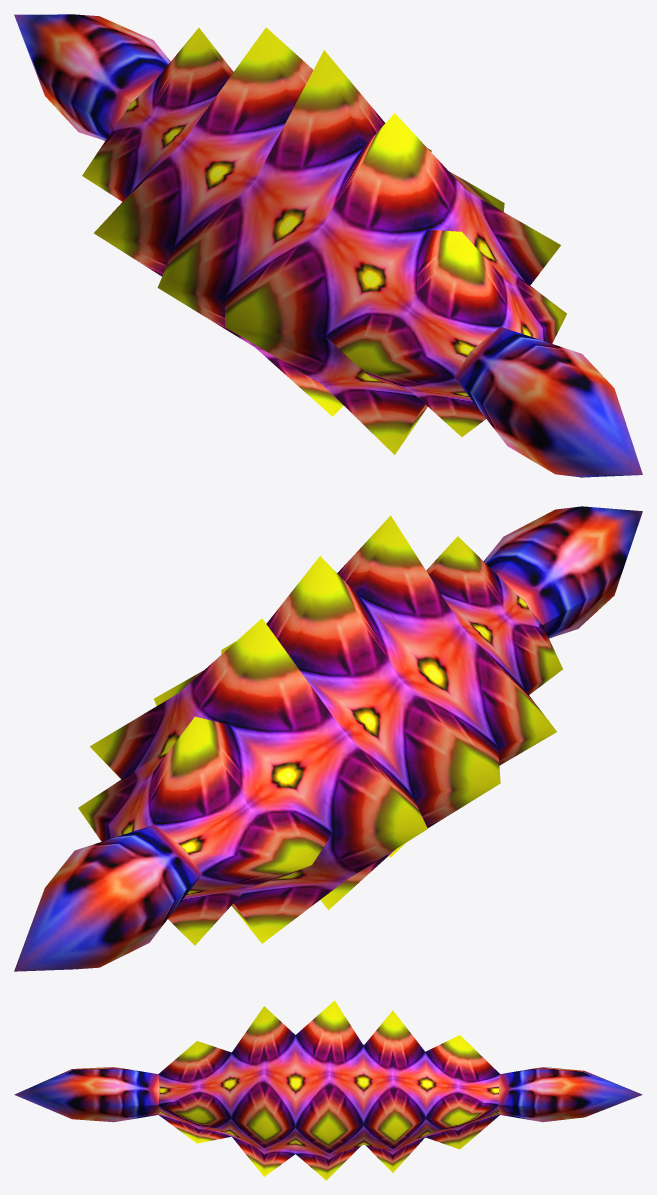
Rendered from ship-17.fbx.
3 views of the same model, one above another, from view 1: azimuth 30°, elevation 25°; view 2: azimuth 150°, elevation 25°; view 3: azimuth 270°, elevation 25° (orthographic). The views are drawn at different scales.
Visible parts, largest first — view 1: ship-17; view 2: ship-17; view 3: ship-17.
Boxes of the visible parts, x1=… form: ship-17: x1=14, y1=14, x2=642, y2=477; ship-17: x1=14, y1=506, x2=642, y2=971; ship-17: x1=14, y1=1000, x2=642, y2=1180.
Size of the model in its own units: 34.6 by 34.36 by 109.
